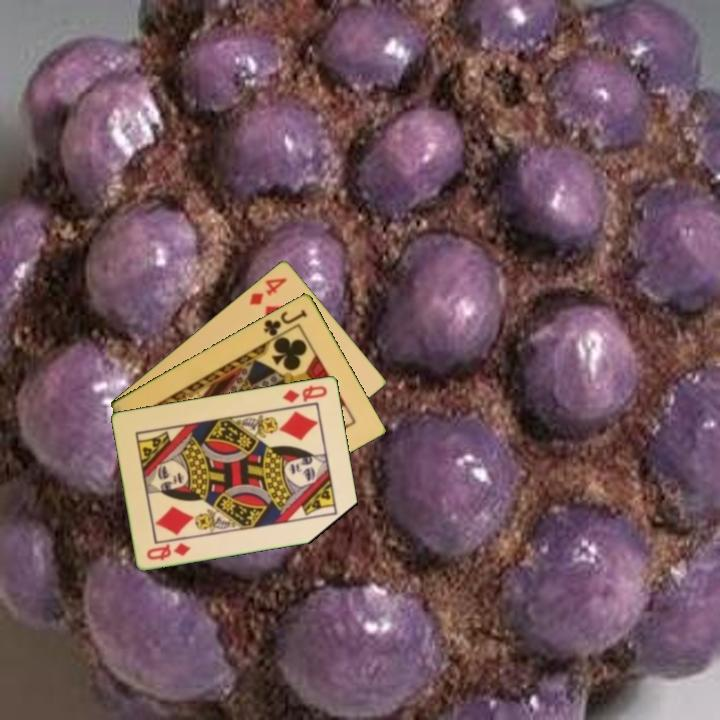4d: (245, 274, 290, 308)
Jc: (260, 305, 310, 339)
Qd: (279, 381, 330, 406), (143, 539, 194, 563)
